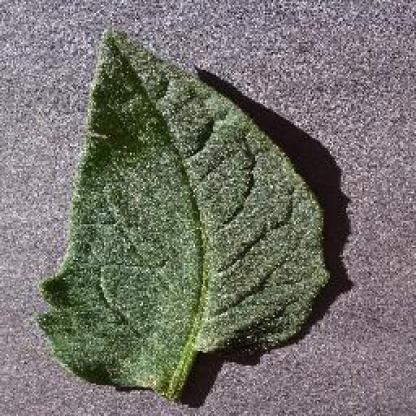bad leaf: (53, 22, 329, 400)
